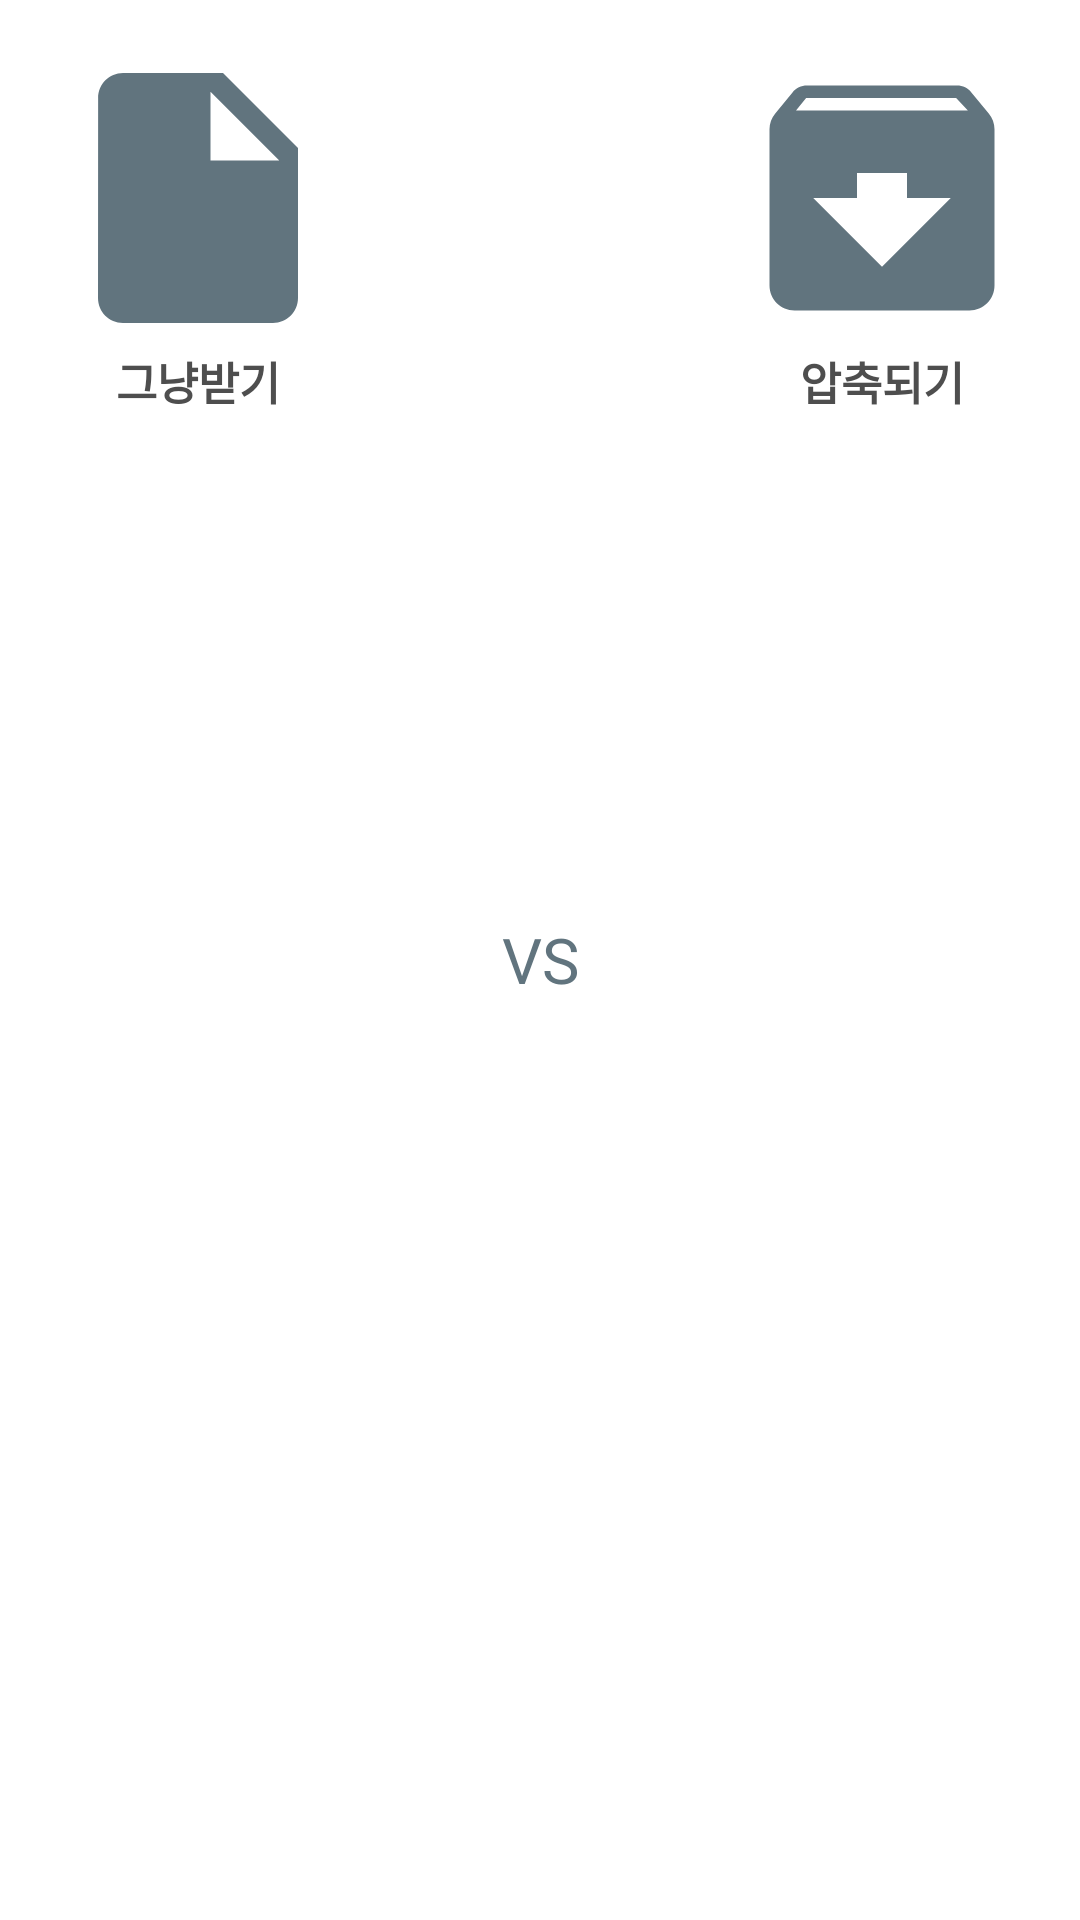

Named icons in this screenshot (1080px x 1920px) and their centers, [x,y]:
archive: [882,198]
file: [198,198]
